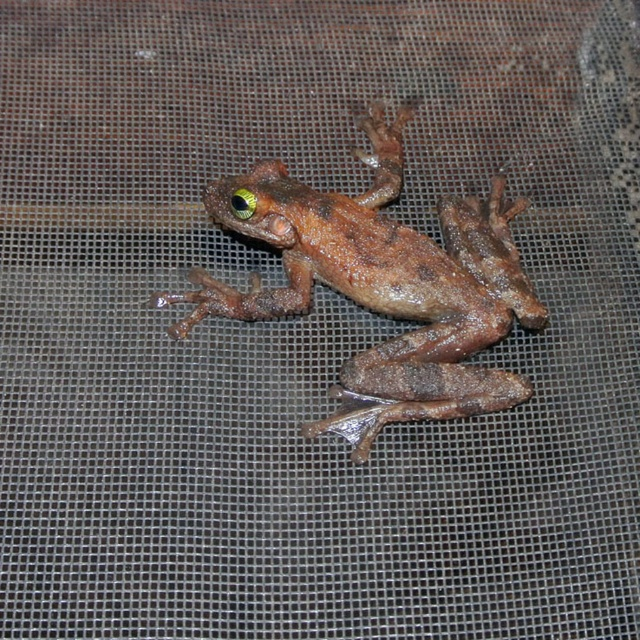Frog: (140, 98, 550, 466)
